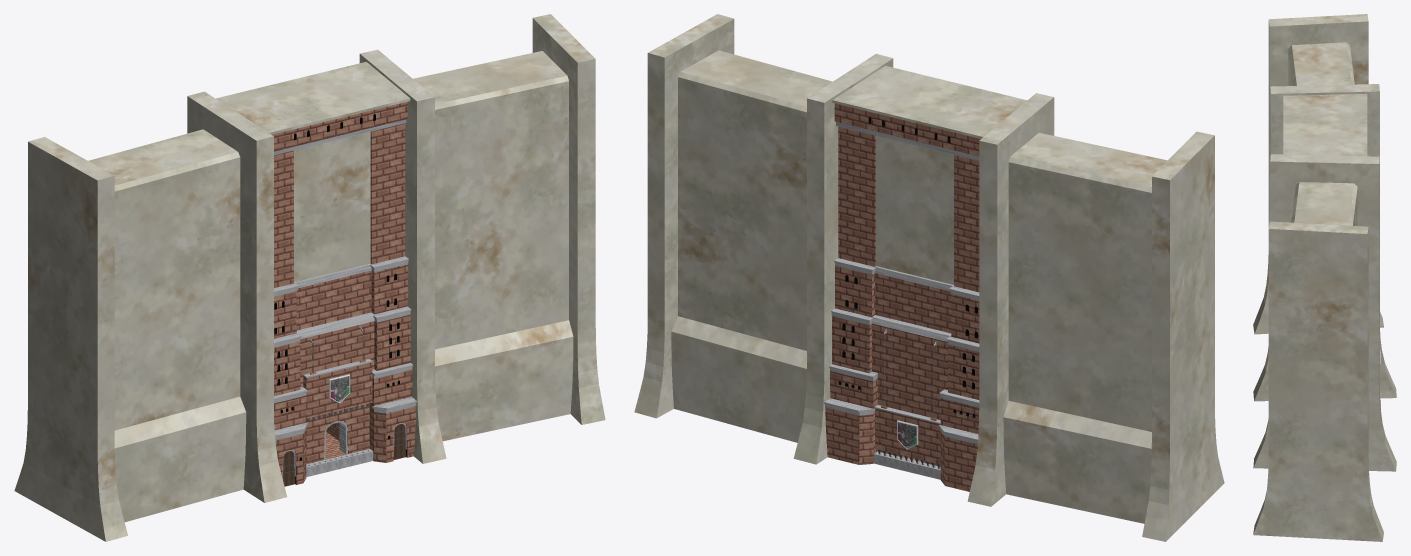
The model's file is mauer_texturiert.FBX.
3 renders of one model, left to right at view 1: azimuth 30°, elevation 25°; view 2: azimuth 150°, elevation 25°; view 3: azimuth 270°, elevation 25°, orthographic. The views are drawn at different scales.
Visible parts, largest first — view 1: Object002, Object001, Object003, Object009, Object011, Object007; view 2: Object002, Object001, Object003, Object009, Object011; view 3: Object001, Object002.
Part boxes in pixels (x1,y1,x2,y2): Object002: [88, 51, 573, 522]; Object001: [14, 14, 605, 541]; Object003: [272, 101, 415, 484]; Object009: [274, 119, 416, 479]; Object011: [274, 114, 407, 484]; Object007: [283, 424, 406, 486]; Object002: [671, 50, 1167, 523]; Object001: [634, 14, 1224, 541]; Object003: [825, 103, 980, 491]; Object009: [824, 121, 979, 479]; Object011: [838, 117, 977, 417]; Object001: [1253, 14, 1396, 541]; Object002: [1283, 42, 1367, 225].
Size of the model in its own units: 925 by 589 by 251.
